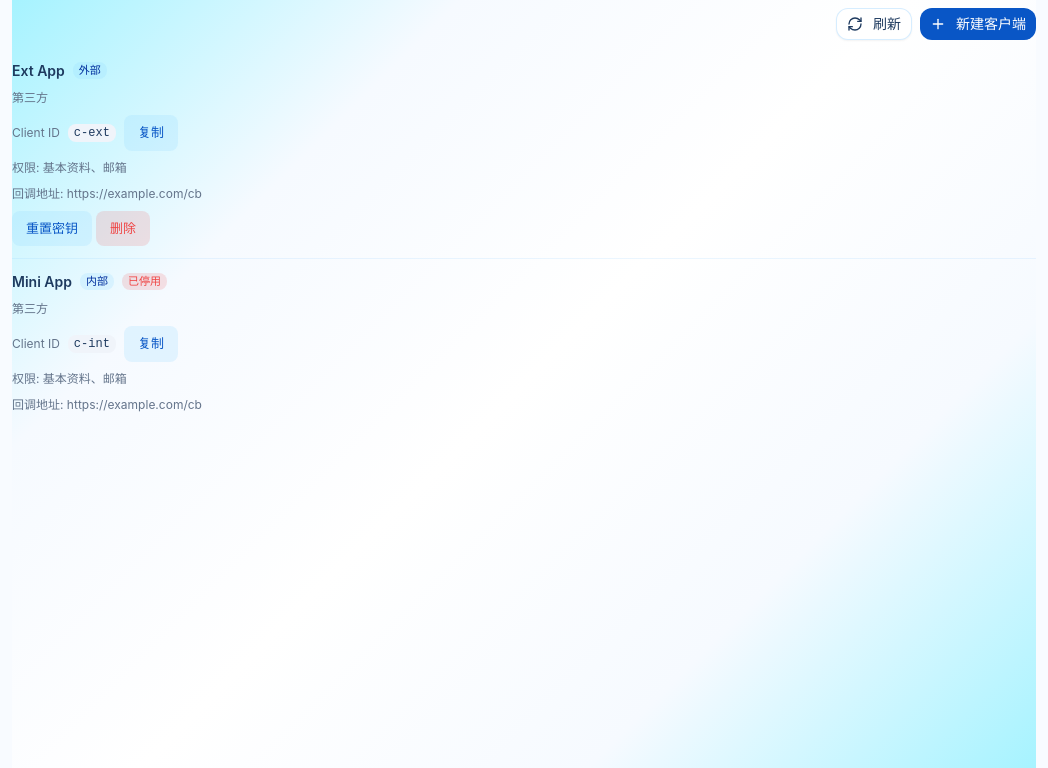
Scenario: OAuthClientsPanel › 删除两步确认：第一次不调；确认后调 deleteClient 并本地移除
expect the text "Ext App" is shown: met, box [12, 60, 65, 81]
Click the button "删除" at (123, 228), box [96, 210, 150, 246]
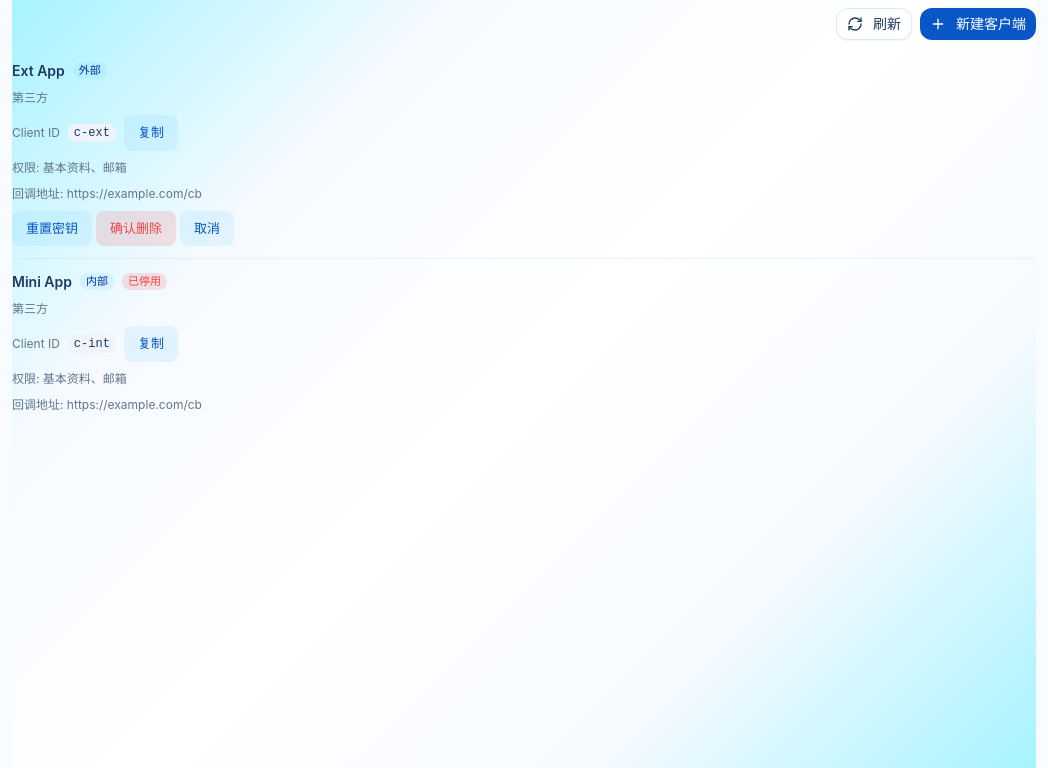
Click the button "确认删除" at (136, 228), box [96, 210, 176, 246]
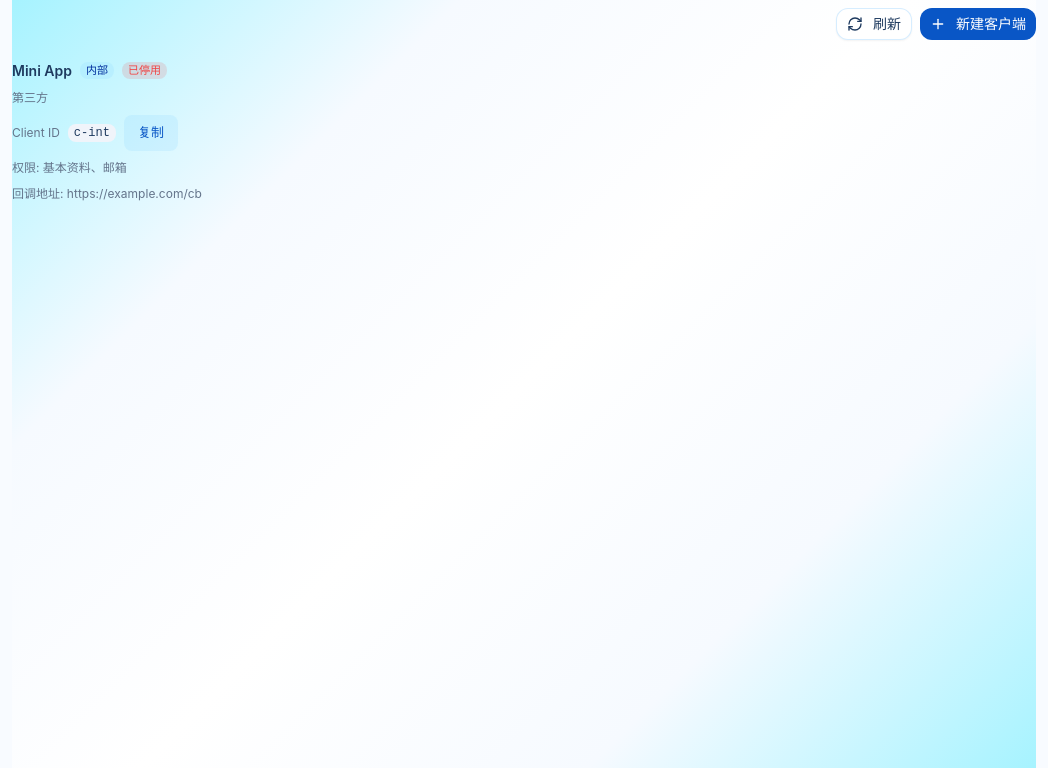
expect the text "Mini App" is shown: met, box [12, 60, 72, 81]
expect the text "Ext App" is gone: met
